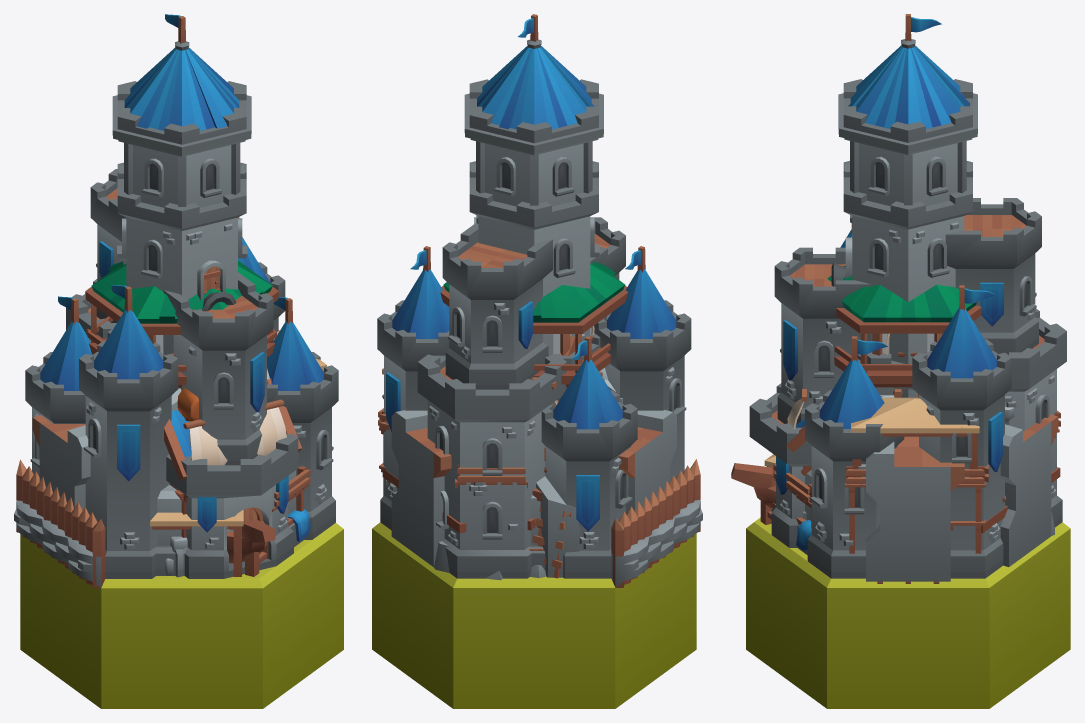
Rendered from medieval.glb.
3 views of the same model, side by side, from view 1: azimuth 30°, elevation 25°; view 2: azimuth 150°, elevation 25°; view 3: azimuth 270°, elevation 25° (orthographic).
Visible parts, largest first — view 1: building_castle_blue, hex_grass, building_tower_B_top_green, fence_wood_straight, ship, building_scaffolding, fence_stone_straight, wall_straight, building_watermill_blue, wall_corner_A_outside, building_stables_blue, building_lumbermill_top_blue; view 2: building_castle_blue, hex_grass, wall_corner_A_outside, building_tower_B_top_green, fence_wood_straight, fence_stone_straight, building_mine_blue, wall_straight, building_scaffolding, building_workshop_blue, building_shrine_blue; view 3: building_castle_blue, hex_grass, wall_straight, building_tower_B_top_green, wall_corner_A_outside, building_scaffolding, ship, building_stables_blue.
Part boxes in pixels (bbox=[...]): building_castle_blue: bbox=[25, 14, 338, 578]; hex_grass: bbox=[20, 523, 343, 708]; building_tower_B_top_green: bbox=[85, 260, 278, 388]; fence_wood_straight: bbox=[16, 459, 105, 588]; ship: bbox=[86, 329, 286, 563]; building_scaffolding: bbox=[150, 330, 326, 576]; fence_stone_straight: bbox=[14, 500, 101, 587]; wall_straight: bbox=[32, 415, 90, 509]; building_watermill_blue: bbox=[164, 378, 301, 577]; wall_corner_A_outside: bbox=[35, 415, 85, 483]; building_stables_blue: bbox=[245, 509, 310, 576]; building_lumbermill_top_blue: bbox=[177, 388, 198, 421]; building_castle_blue: bbox=[377, 14, 691, 578]; hex_grass: bbox=[372, 522, 696, 708]; wall_corner_A_outside: bbox=[391, 398, 676, 567]; building_tower_B_top_green: bbox=[440, 261, 628, 387]; fence_wood_straight: bbox=[611, 459, 700, 587]; fence_stone_straight: bbox=[611, 499, 702, 587]; building_mine_blue: bbox=[536, 476, 579, 577]; wall_straight: bbox=[623, 410, 672, 512]; building_scaffolding: bbox=[378, 368, 527, 495]; building_workshop_blue: bbox=[527, 505, 570, 578]; building_shrine_blue: bbox=[434, 541, 546, 580]; building_castle_blue: bbox=[749, 14, 1066, 578]; hex_grass: bbox=[746, 517, 1070, 708]; wall_straight: bbox=[866, 442, 964, 581]; building_tower_B_top_green: bbox=[827, 265, 981, 387]; wall_corner_A_outside: bbox=[1000, 414, 1058, 566]; building_scaffolding: bbox=[764, 397, 1060, 553]; ship: bbox=[731, 333, 902, 509]; building_stables_blue: bbox=[760, 467, 1060, 550].
Bounding box in the file's own units: 2.1 × 4.98 × 2.41.
1 material, 1 textured.
